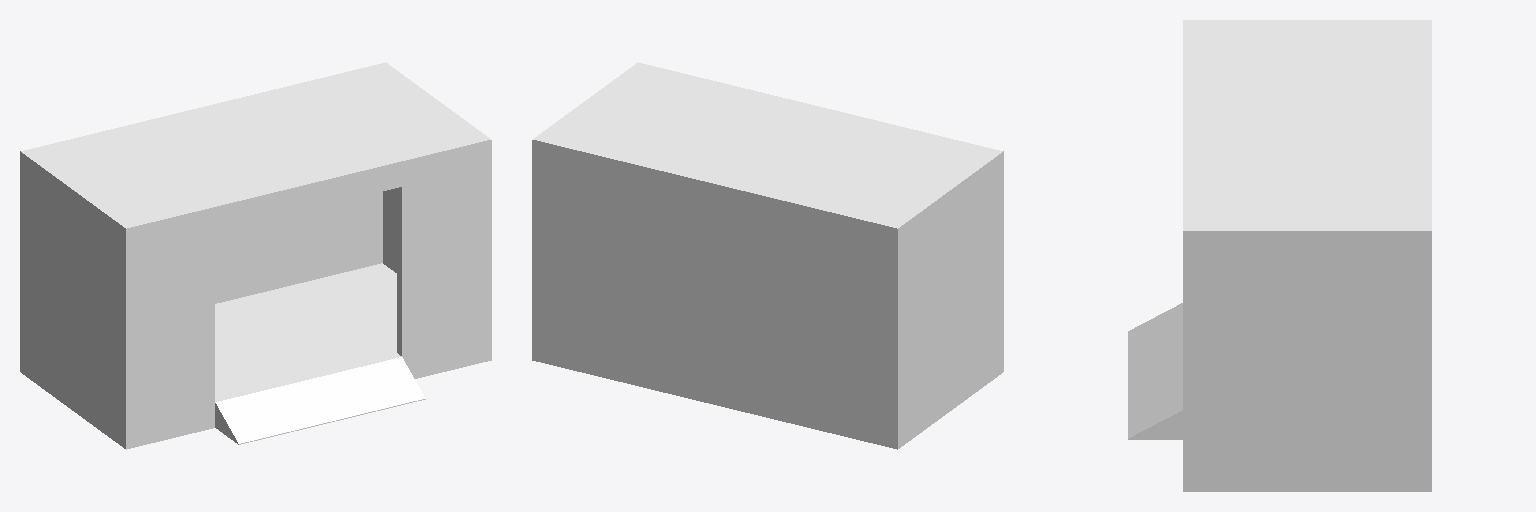
The robot description file, URDF, robot "Container_Gazebo":
<?xml version="1.0" encoding="utf-8"?>
<!-- This URDF was automatically created by SolidWorks to URDF Exporter! Originally created by [author] ([email redacted]) 
     Commit Version: 1.5.1-0-g916b5db  Build Version: 1.5.7152.31018
     For more information, please see http://wiki.ros.org/sw_urdf_exporter -->
<robot
  name="Container_Gazebo">
  <link
    name="Container_Gazebo">
    <inertial>
      <origin
        xyz="-2.9368E-16 1.1644 0.67613"
        rpy="0 0 0" />
      <mass
        value="52543" />
      <inertia
        ixx="81352"
        ixy="2.7301E-11"
        ixz="1.0781E-11"
        iyy="163050"
        iyz="2878.9"
        izz="146100" />
    </inertial>
    <visual>
      <origin
        xyz="0 0 0"
        rpy="1.5707963267949 0 0" />
      <geometry>
        <mesh
          filename="package://Container_Gazebo/meshes/Container_Gazebo.STL" />
      </geometry>
      <material
        name="">
        <color
          rgba="1 1 1 1" />
        <texture
          filename="package://Container_Gazebo/textures/" />
      </material>
    </visual>
    <collision>
      <origin
        xyz="0 0 0"
        rpy="1.5707963267949 0 0" />
      <geometry>
        <mesh
          filename="package://Container_Gazebo/meshes/Container_Gazebo.STL" />
      </geometry>
    </collision>
  </link>
</robot>

--- Render facts (derived) ---
The picture shows the robot from 3 angles, left to right: view 1: azimuth 30°, elevation 25°; view 2: azimuth 150°, elevation 25°; view 3: azimuth 270°, elevation 25°; orthographic projection.
Model Container_Gazebo with 1 links and 0 joints (none), rooted at Container_Gazebo, posed all joints at 0.
Links seen in each view (by area): view 1: Container_Gazebo; view 2: Container_Gazebo; view 3: Container_Gazebo.
Link boxes in pixels (box(x1,y1,x2,y2)): Container_Gazebo: box(20, 62, 491, 449); Container_Gazebo: box(532, 62, 1003, 449); Container_Gazebo: box(1128, 20, 1431, 491).
Size in the robot's own frame: 4.5 by 2.75 by 2.6 metres.
1 mesh visuals loaded from 1 distinct referenced files (1 binary STL).